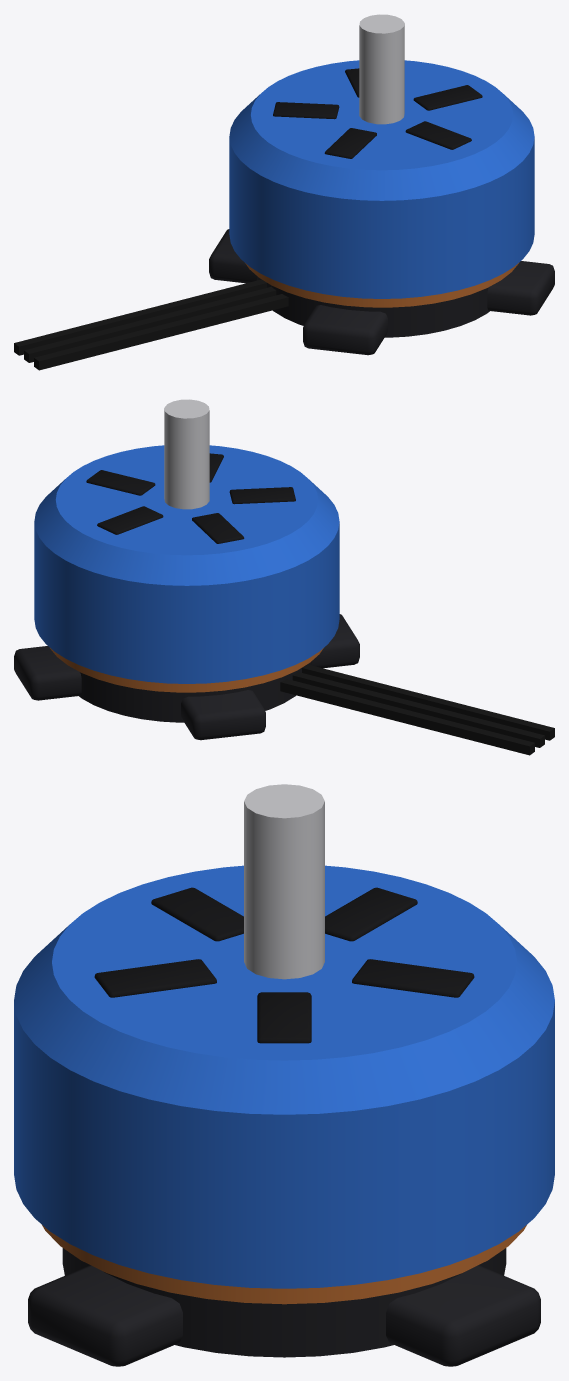
File: motor_2806.glb
3 renders of one model, top to bottom at view 1: azimuth 30°, elevation 25°; view 2: azimuth 150°, elevation 25°; view 3: azimuth 270°, elevation 25°, orthographic. The views are drawn at different scales.
Parts seen in each view (by area): view 1: motor_2806_M_Bell_2806, motor_2806_M_MotorBase, motor_2806_M_WireBlack, motor_2806_M_Steel, motor_2806_M_MotorDark, motor_2806_M_Copper; view 2: motor_2806_M_Bell_2806, motor_2806_M_MotorBase, motor_2806_M_WireBlack, motor_2806_M_Steel, motor_2806_M_MotorDark, motor_2806_M_Copper; view 3: motor_2806_M_Bell_2806, motor_2806_M_MotorBase, motor_2806_M_Steel, motor_2806_M_MotorDark, motor_2806_M_Copper.
Boxes of the visible parts, left/top/right/bottom form: motor_2806_M_Bell_2806: left=229, top=60, right=534, bottom=298; motor_2806_M_MotorBase: left=209, top=229, right=554, bottom=355; motor_2806_M_WireBlack: left=14, top=279, right=288, bottom=370; motor_2806_M_Steel: left=359, top=14, right=404, bottom=124; motor_2806_M_MotorDark: left=273, top=68, right=482, bottom=158; motor_2806_M_Copper: left=245, top=263, right=518, bottom=307; motor_2806_M_Bell_2806: left=34, top=445, right=339, bottom=683; motor_2806_M_MotorBase: left=14, top=614, right=359, bottom=740; motor_2806_M_WireBlack: left=280, top=664, right=554, bottom=755; motor_2806_M_Steel: left=164, top=399, right=209, bottom=509; motor_2806_M_MotorDark: left=86, top=453, right=295, bottom=543; motor_2806_M_Copper: left=50, top=648, right=323, bottom=692; motor_2806_M_Bell_2806: left=14, top=865, right=554, bottom=1288; motor_2806_M_MotorBase: left=28, top=1248, right=540, bottom=1366; motor_2806_M_Steel: left=244, top=784, right=324, bottom=979; motor_2806_M_MotorDark: left=94, top=887, right=474, bottom=1043; motor_2806_M_Copper: left=42, top=1225, right=526, bottom=1304.
Bounding box in the file's own units: 0.0618 × 0.0316 × 0.0335.
